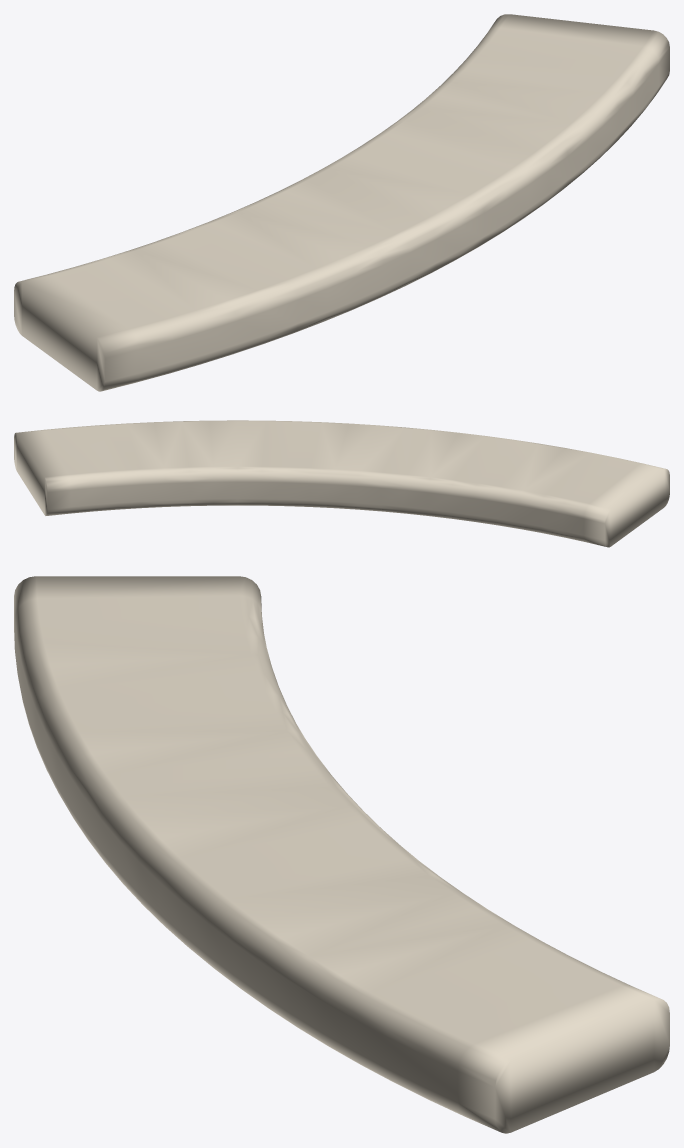
File: ArcCoping_R2_A45.glb
The picture shows the model from 3 angles, top to bottom: view 1: azimuth 30°, elevation 25°; view 2: azimuth 150°, elevation 25°; view 3: azimuth 270°, elevation 25°; orthographic projection. The views are drawn at different scales.
Parts seen in each view (by area): view 1: PBK_Coping.012; view 2: PBK_Coping.012; view 3: PBK_Coping.012.
Part boxes in pixels (bbox=[...]): PBK_Coping.012: bbox=[14, 14, 669, 391]; PBK_Coping.012: bbox=[14, 420, 669, 547]; PBK_Coping.012: bbox=[14, 576, 669, 1133].
Bounding box in the file's own units: 1.46 × 0.1 × 0.8226.
